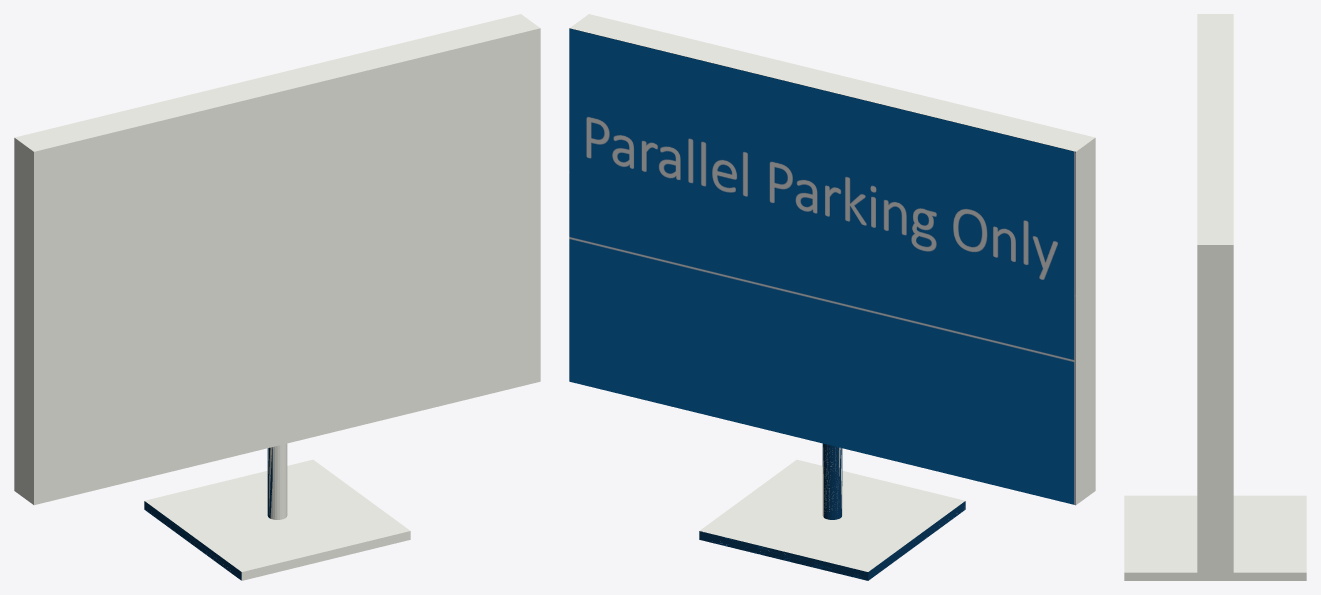
The model's file is Parallel_Parking.dae.
The picture shows the model from 3 angles, left to right: view 1: azimuth 30°, elevation 25°; view 2: azimuth 150°, elevation 25°; view 3: azimuth 270°, elevation 25°; orthographic projection. The views are drawn at different scales.
Visible parts, largest first — view 1: Schild; view 2: Schild; view 3: Schild.
Boxes of the visible parts, x1,y1,x2,y2 form: Schild: (14, 14, 540, 580); Schild: (569, 14, 1095, 580); Schild: (1124, 14, 1306, 580).
Bounding box in the file's own units: 0.3 × 0.1 × 0.25.
2 materials, 1 textured.
